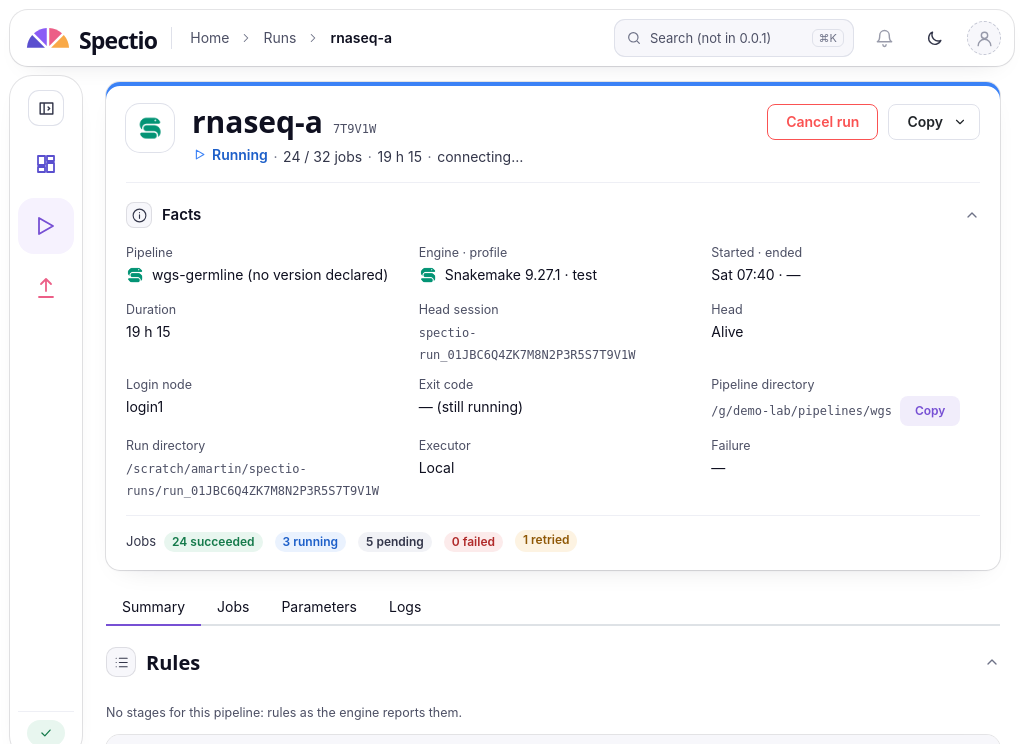
Test: UX-PAR-20/21/22: a Snakemake run reads jobs and rules; facts sit in the header with the engine mark
The image size is (1024, 744).
Expected: the text "24 / 32 jobs" is shown, x1=268 y1=146 x2=362 y2=168
Expected: the text "Snakemake 9.27.1 · test" is shown, x1=445 y1=264 x2=597 y2=286
# The facts stay on every tab.
Click the tab "Logs". click: point(405, 608)
box: x1=373 y1=590 x2=437 y2=626
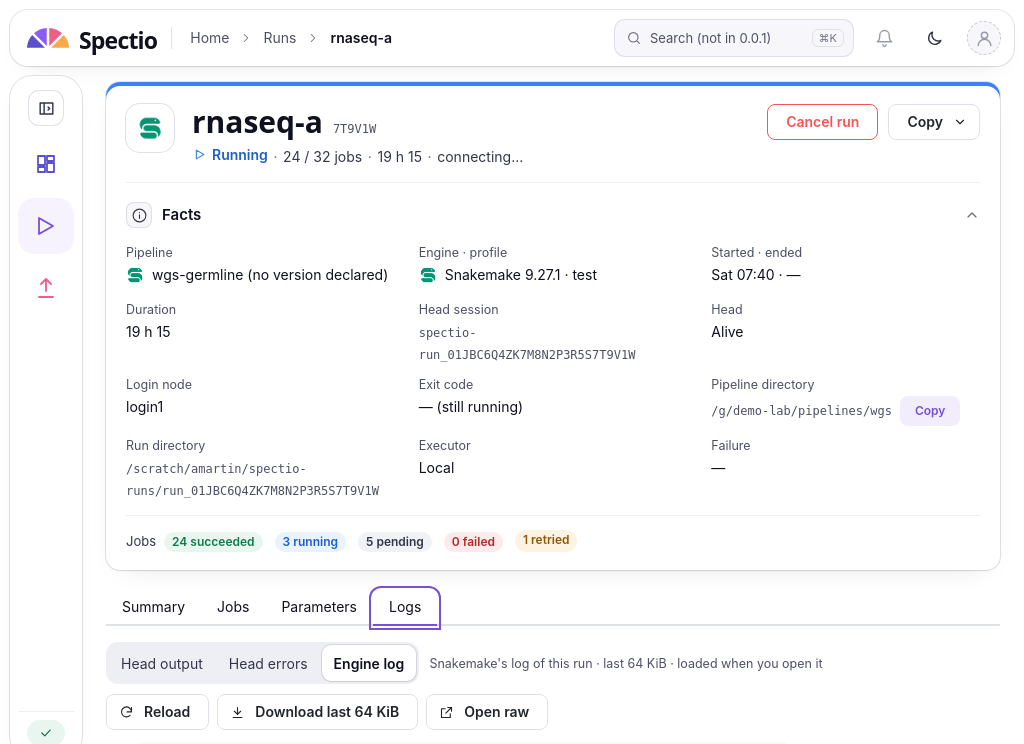
Expected: the text "Snakemake 9.27.1 · test" is shown, x1=445 y1=264 x2=597 y2=286
# CR-P3PARA-07: the Jobs tab names its filters and table in the engine's words.
Click the tab "Jobs". click: point(233, 608)
box: x1=201 y1=590 x2=265 y2=626
(page scrolled)
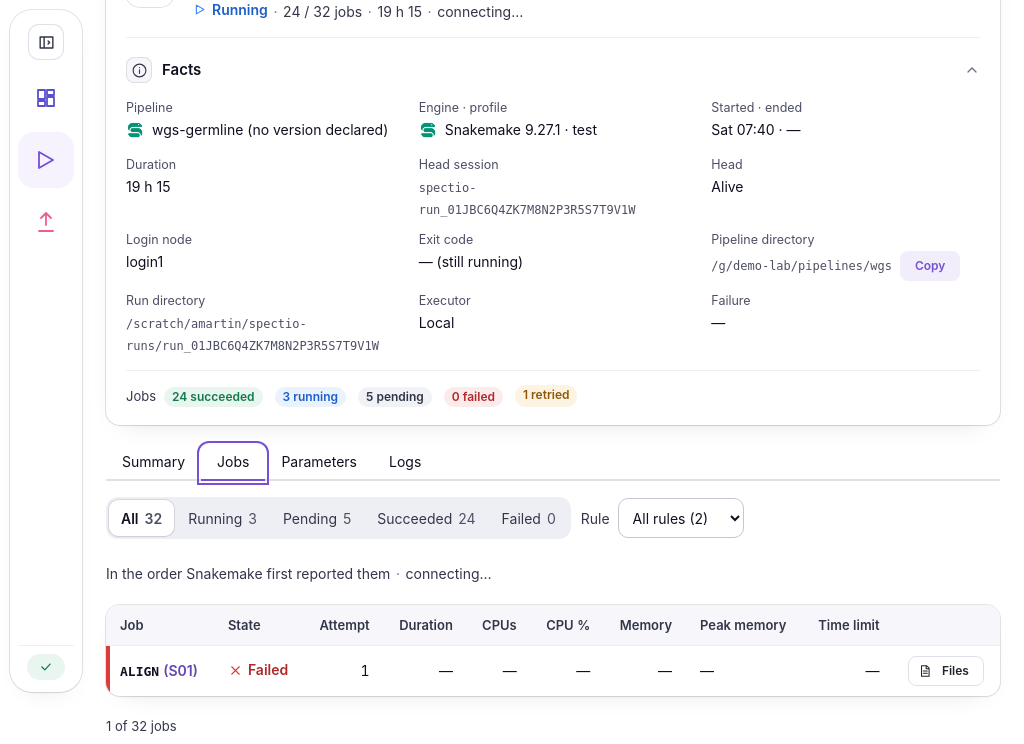
Now the element named "Show jobs" is shown, box x1=106 y1=497 x2=571 y2=539
Now the table named "Jobs" is shown, box x1=106 y1=605 x2=1000 y2=696
